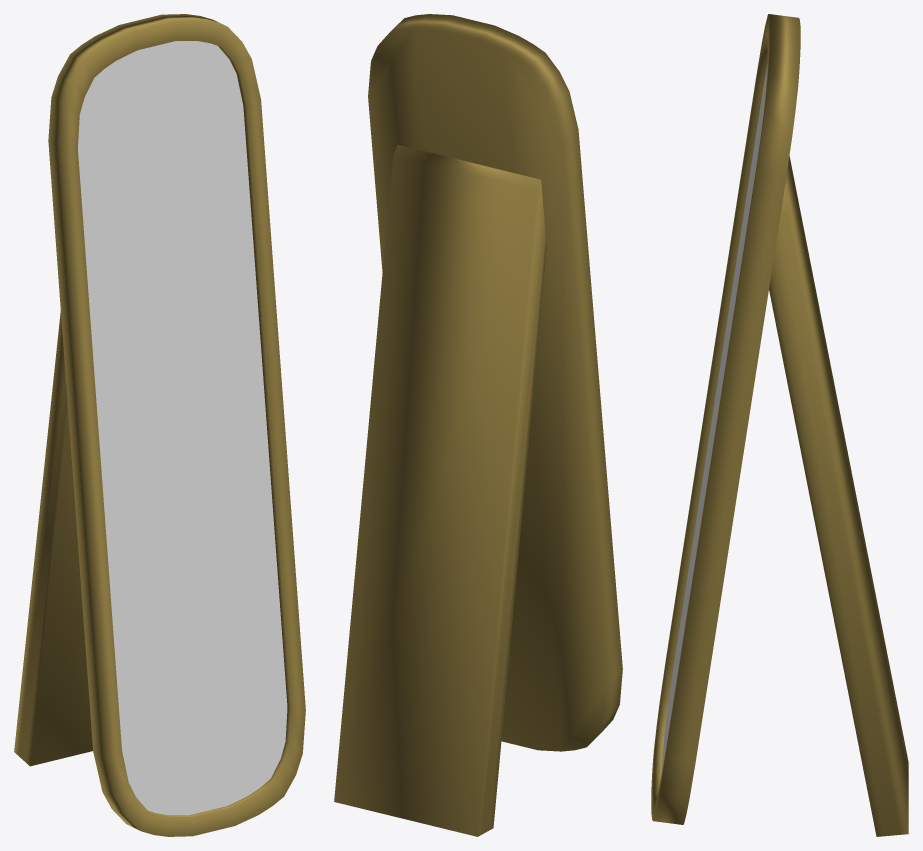
The model's file is espejo habi grande.fbx.
The picture shows the model from 3 angles, left to right: view 1: azimuth 30°, elevation 25°; view 2: azimuth 150°, elevation 25°; view 3: azimuth 270°, elevation 25°; orthographic projection. The views are drawn at different scales.
Parts seen in each view (by area): view 1: Cube.016; view 2: Cube.016; view 3: Cube.016.
Boxes of the visible parts, box(x1,y1,x2,y2) form: Cube.016: box(14, 14, 305, 836); Cube.016: box(334, 14, 622, 836); Cube.016: box(651, 14, 908, 836).
Bounding box in the file's own units: 189 × 698 × 211.
